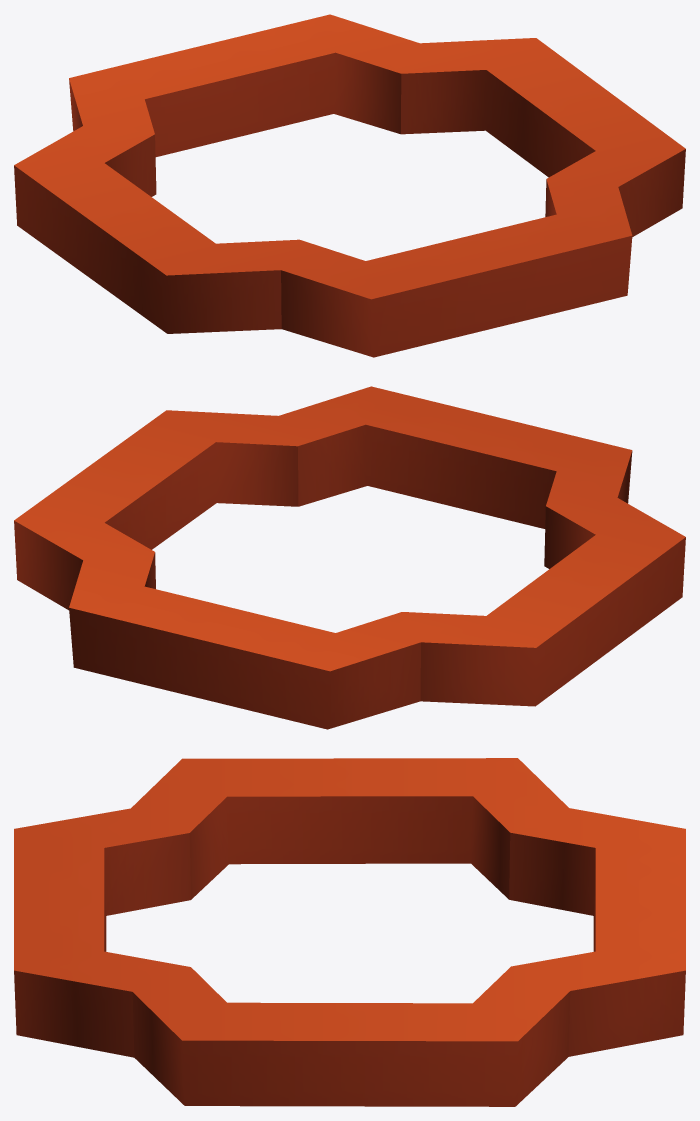
File: paprika_red_slice.fbx
3 renders of one model, top to bottom at view 1: azimuth 30°, elevation 25°; view 2: azimuth 150°, elevation 25°; view 3: azimuth 270°, elevation 25°, orthographic. The views are drawn at different scales.
Parts seen in each view (by area): view 1: paprika_red_slice; view 2: paprika_red_slice; view 3: paprika_red_slice.
Boxes of the visible parts, left/top/right/bottom form: paprika_red_slice: left=14, top=14, right=685, bottom=357; paprika_red_slice: left=14, top=386, right=685, bottom=729; paprika_red_slice: left=14, top=758, right=685, bottom=1106.
Bounding box in the file's own units: 22.67 × 2.49 × 22.73.
